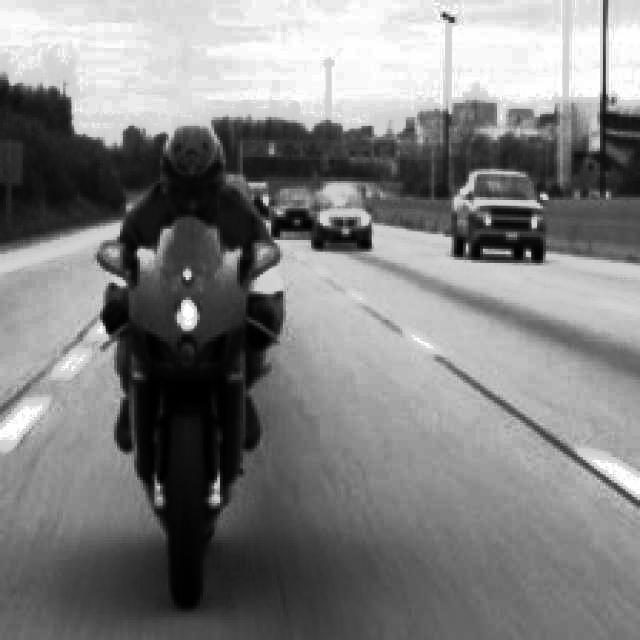Bike: (101, 234, 290, 614)
